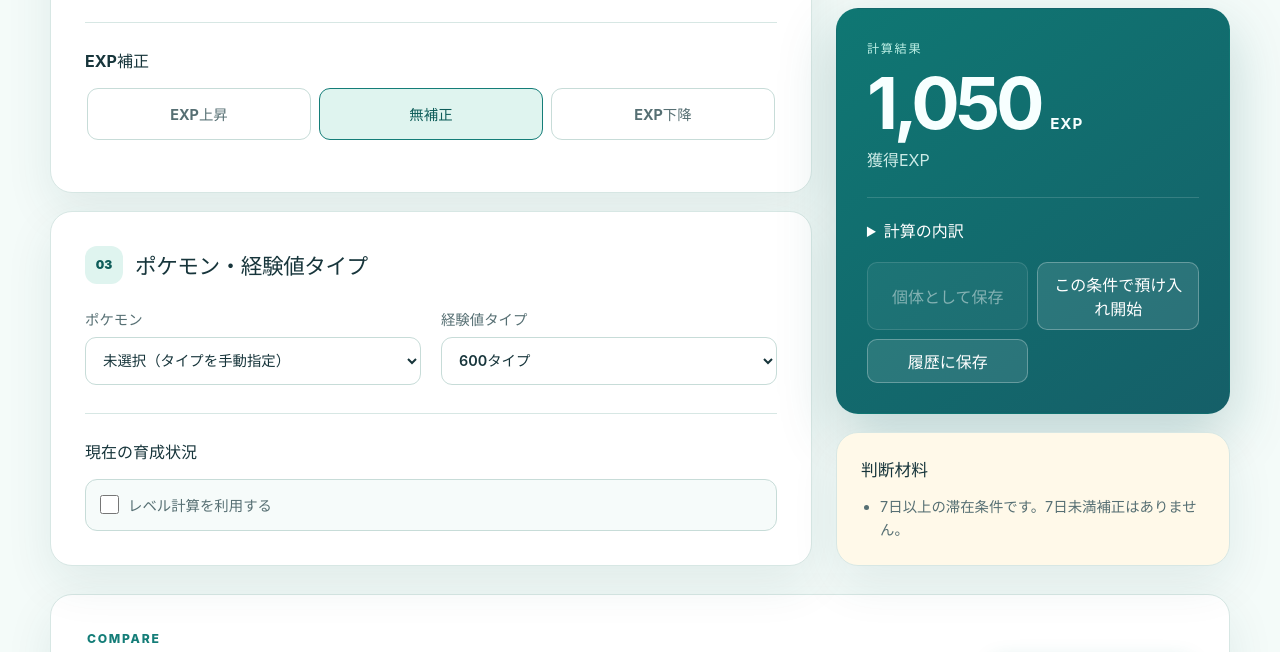
Test case: CalculatorPage › uses the selected Pokémon EXP type unless manually overridden
(page scrolled)
Select "No.151 ミュウ" in the dropdown labelled "ポケモン" at {"x": 253, "y": 360}, box x1=85 y1=336 x2=421 y2=384
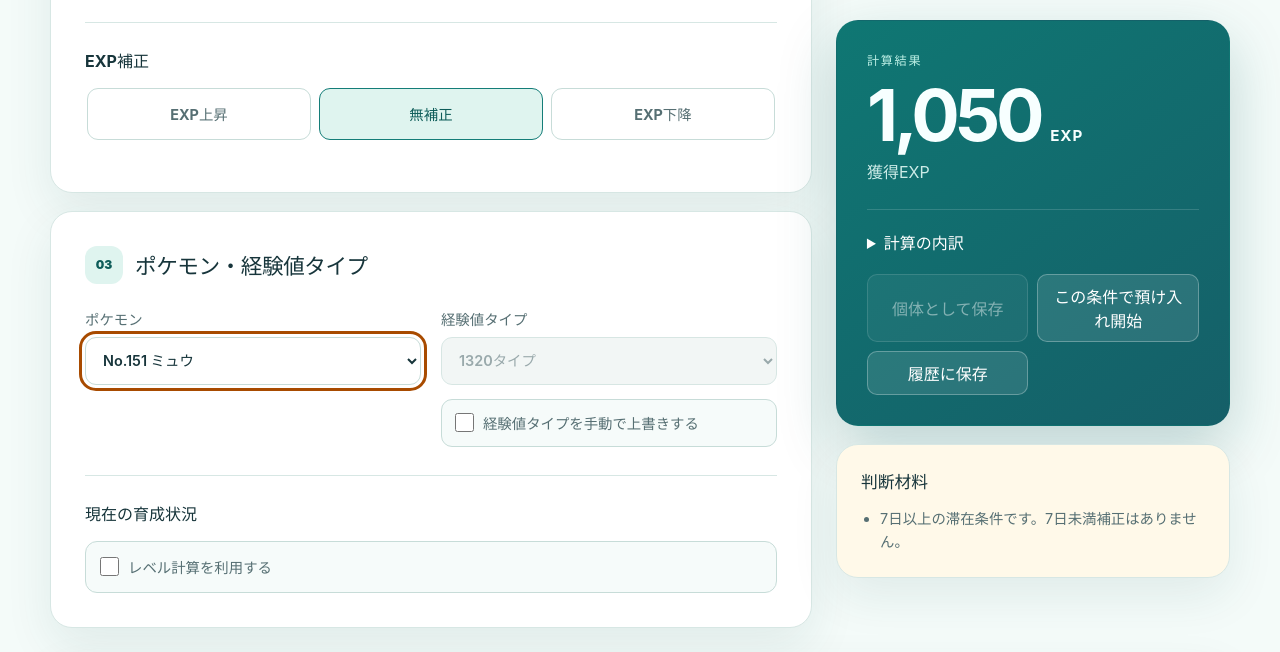
Now the dropdown labelled "経験値タイプ" shows "1320タイプ", box x1=441 y1=336 x2=777 y2=384
Now the dropdown labelled "経験値タイプ" is disabled, box x1=441 y1=336 x2=777 y2=384
